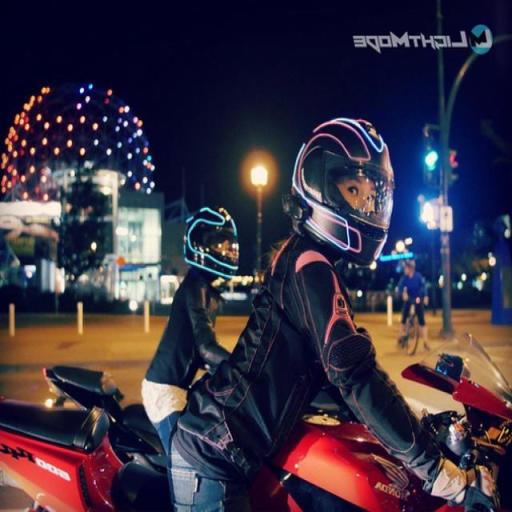Helmet: (287, 103, 400, 257), (175, 190, 248, 276)
Motor: (3, 368, 512, 512)
